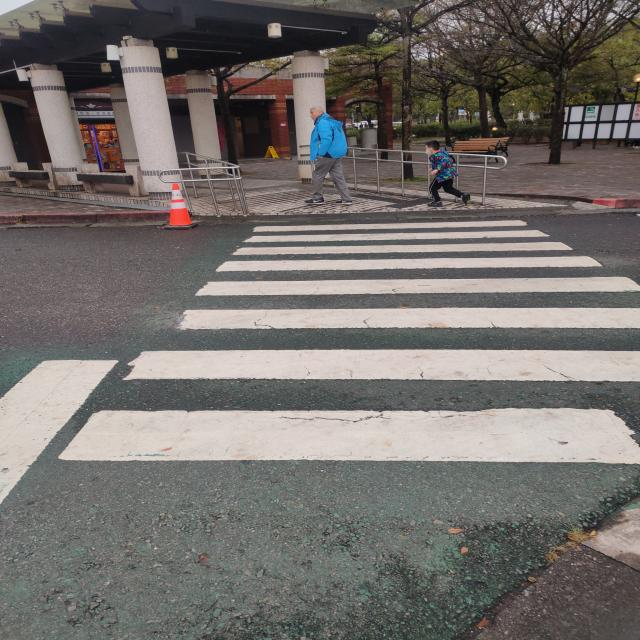person: (305, 106, 353, 205), (425, 140, 472, 208)
zebra crossing: (59, 216, 640, 465)
